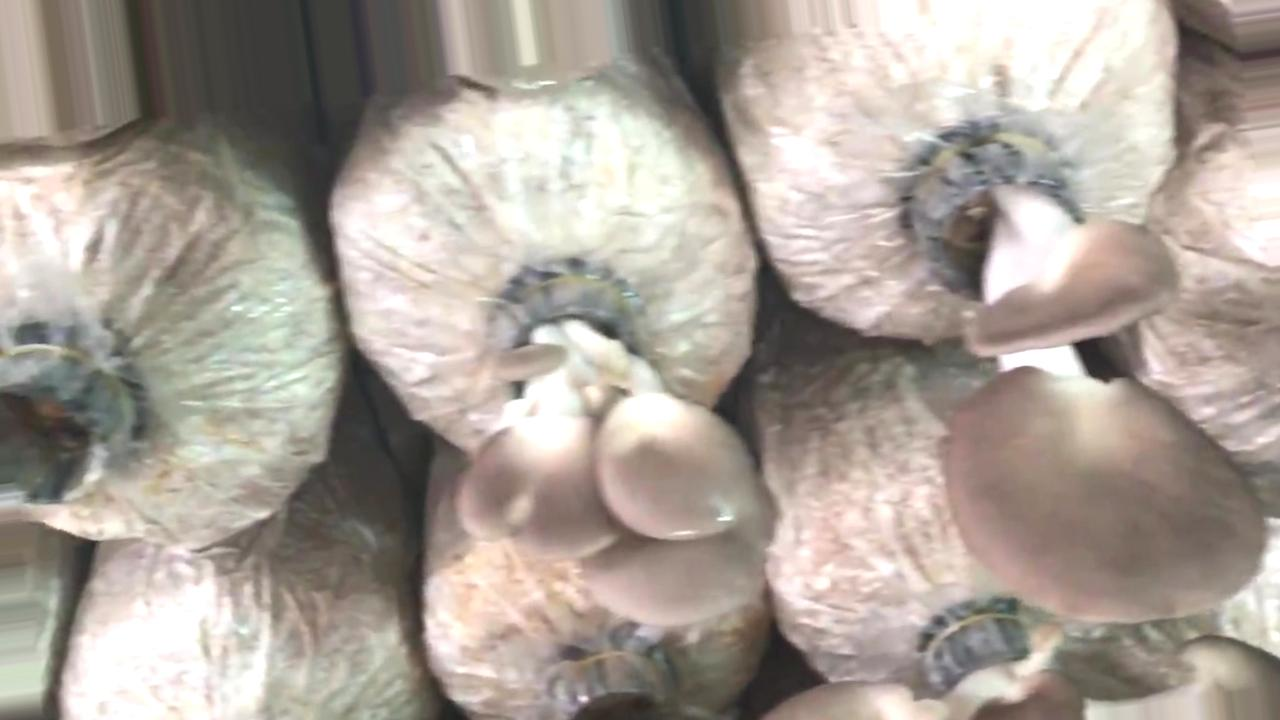nam: (907, 118, 1267, 627), (452, 249, 775, 624)
